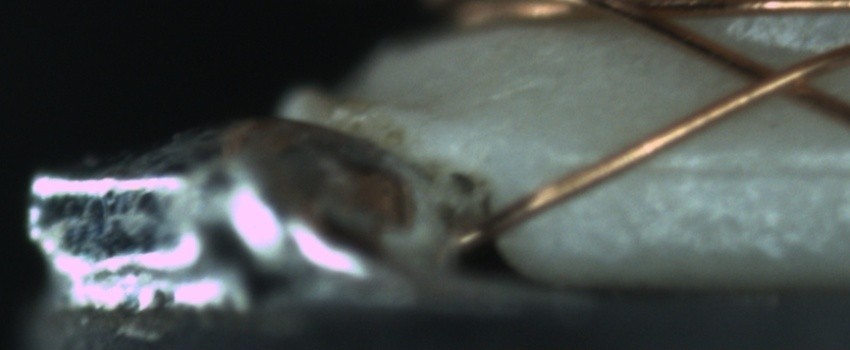CL: (715, 46, 836, 108)
DL: (575, 136, 843, 202)
